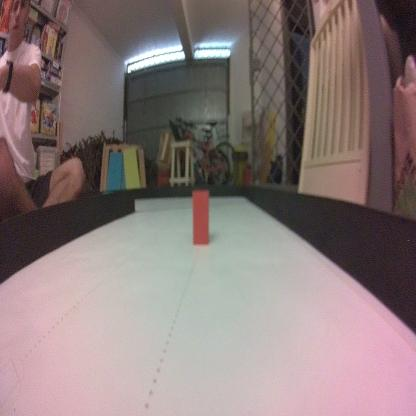red: (191, 188, 210, 243)
